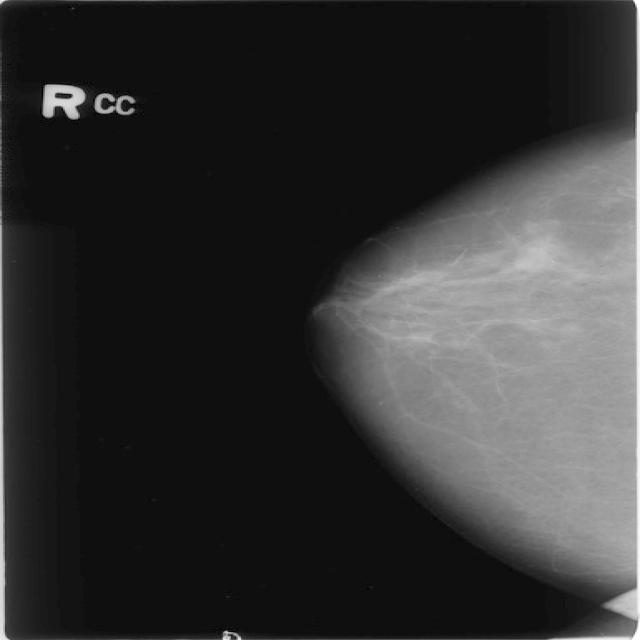tumour: (512, 243, 555, 275)
